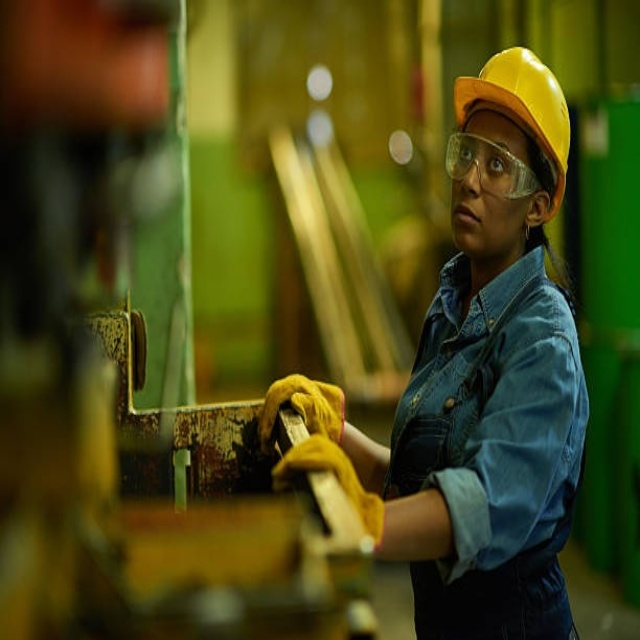Gafas: (445, 131, 545, 200)
Guantes: (272, 434, 385, 548), (259, 373, 347, 452)
Sin_mascara: (450, 199, 487, 247)
